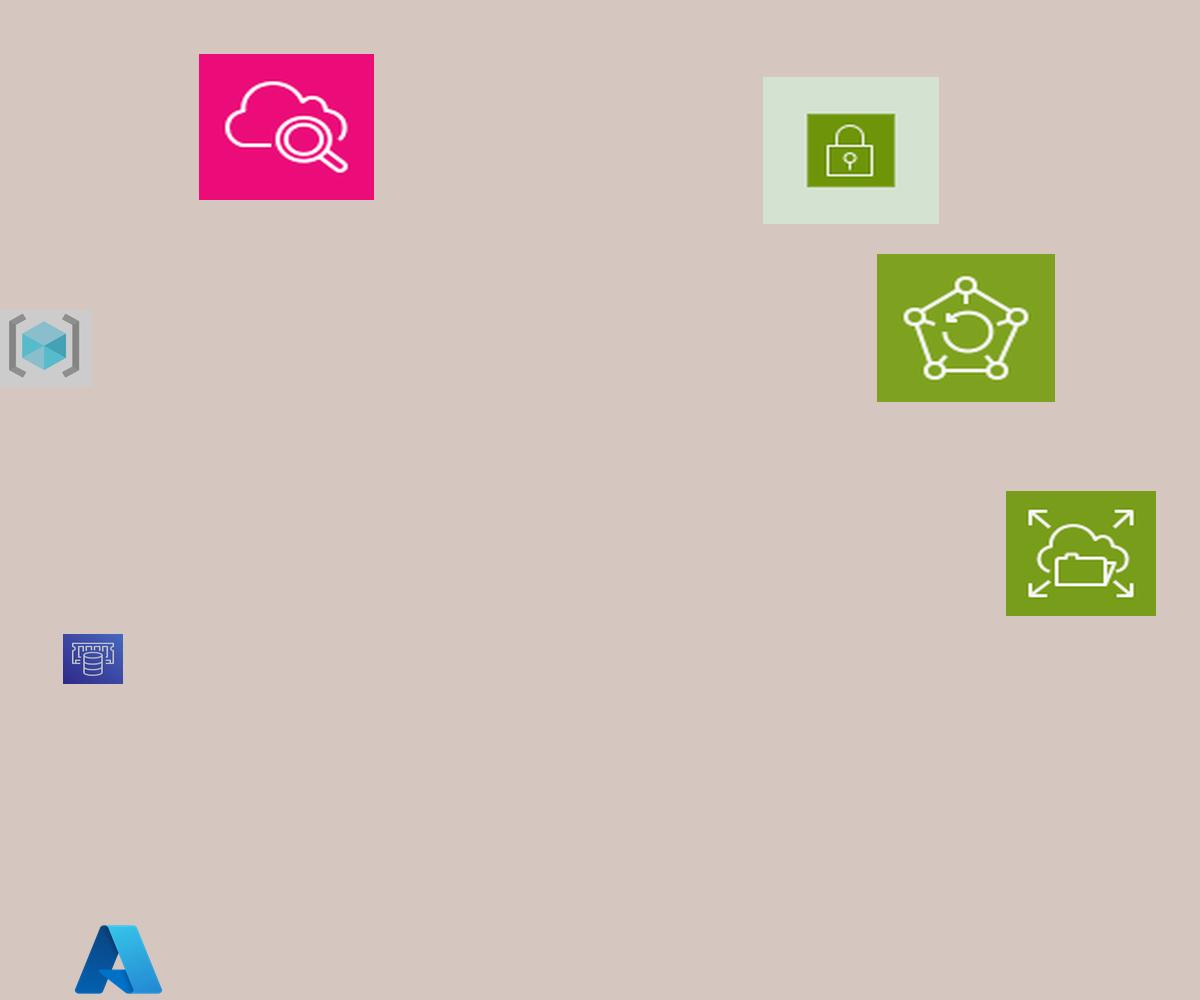AWS-Backup: (877, 254, 1055, 402)
AWS-CloudWatch: (199, 54, 374, 200)
AWS-EFS: (1006, 491, 1156, 616)
AWS-ElastiCache: (63, 634, 123, 684)
AWS-Public-subnet: (763, 77, 939, 224)
Azure_resource_group: (0, 310, 92, 387)
Azure_services: (71, 920, 166, 999)
